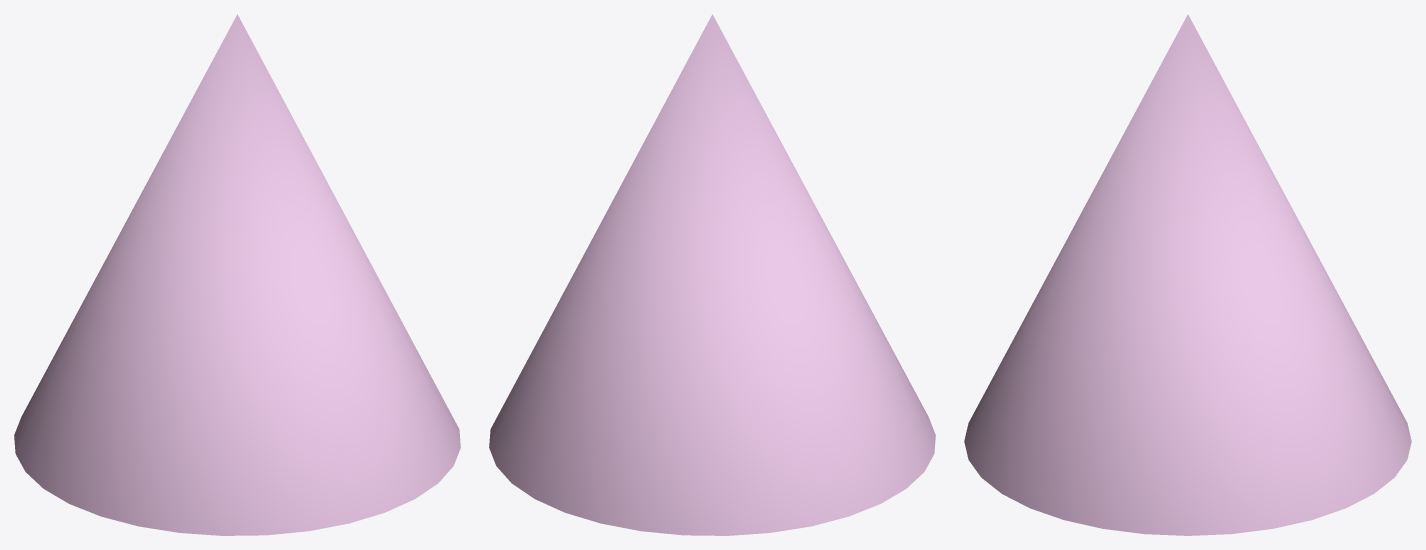
3 views of the same model, side by side, from view 1: azimuth 30°, elevation 25°; view 2: azimuth 150°, elevation 25°; view 3: azimuth 270°, elevation 25° (orthographic).
Visible parts, largest first — view 1: Cone; view 2: Cone; view 3: Cone.
Part boxes in pixels (<box>): Cone: <box>14,14,460,535</box>; Cone: <box>489,14,935,535</box>; Cone: <box>964,14,1411,535</box>.
Bounding box in the file's own units: 206 × 217 × 206.
